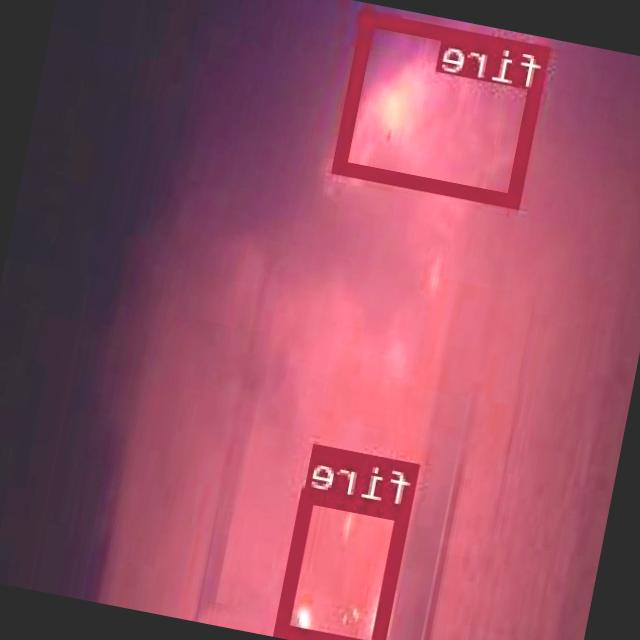fire: (336, 11, 552, 208), (279, 487, 414, 640)
